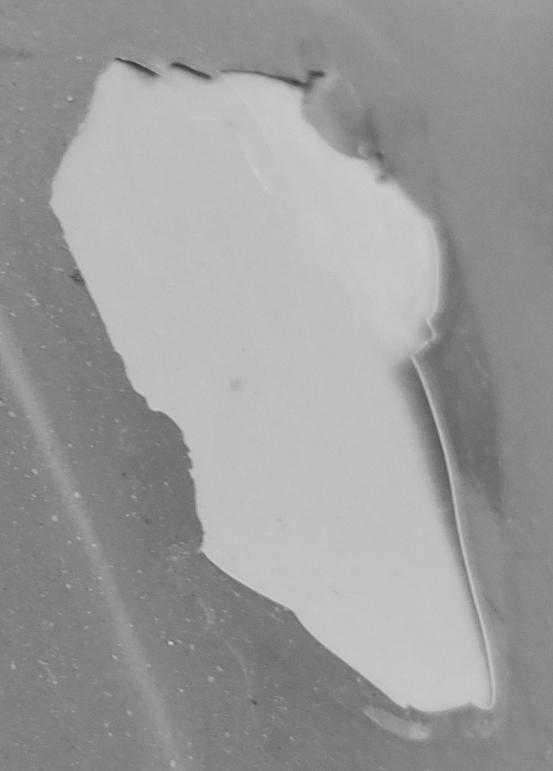paint-off: (1, 0, 553, 771)
